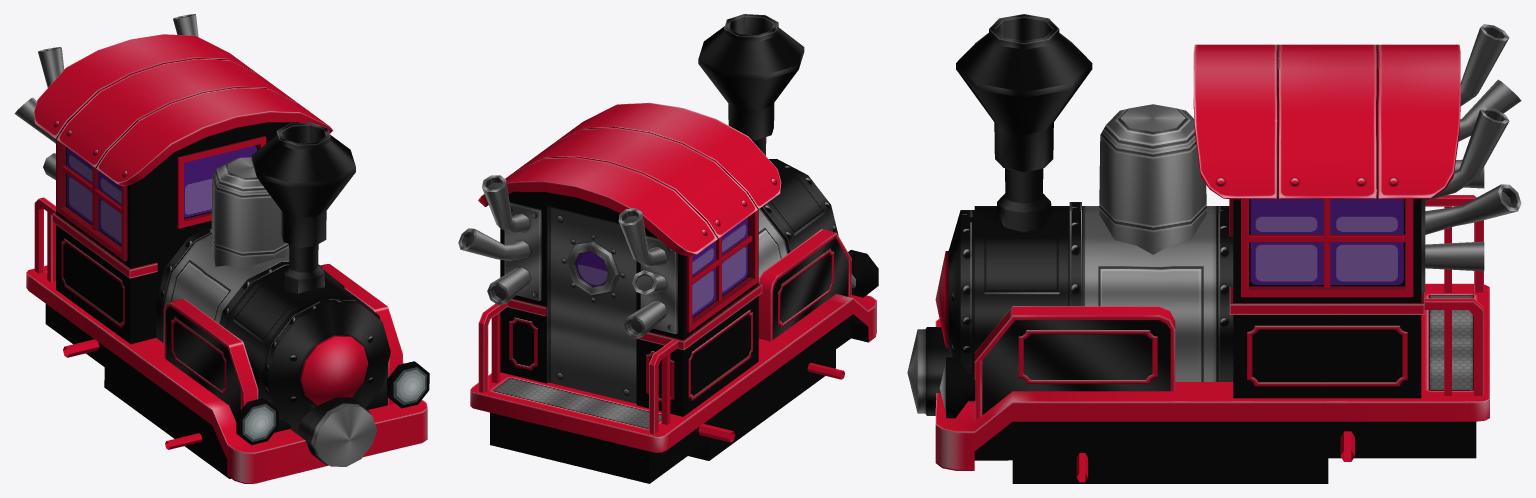
Rendered from train.FBX.
The picture shows the model from 3 angles, left to right: view 1: azimuth 30°, elevation 25°; view 2: azimuth 150°, elevation 25°; view 3: azimuth 270°, elevation 25°; orthographic projection. The views are drawn at different scales.
Parts seen in each view (by area): view 1: train; view 2: train; view 3: train.
Part boxes in pixels (bbox=[...]): train: bbox=[14, 14, 429, 483]; train: bbox=[458, 14, 878, 483]; train: bbox=[907, 14, 1521, 483].
Bounding box in the file's own units: 0.2922 × 0.3969 × 0.5434.
